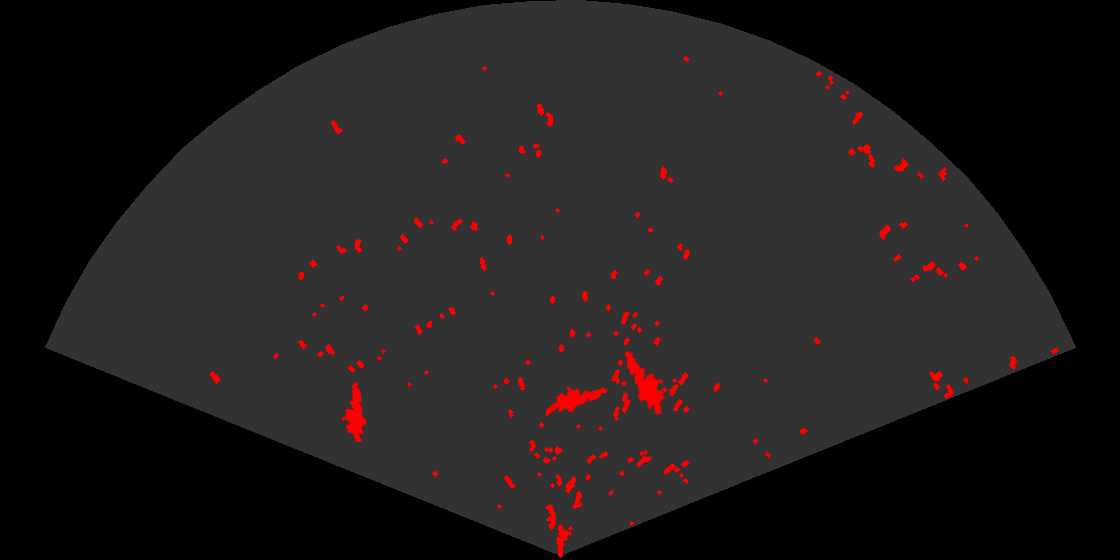frogman: (623, 348, 666, 414), (546, 385, 609, 418), (340, 380, 369, 442)
